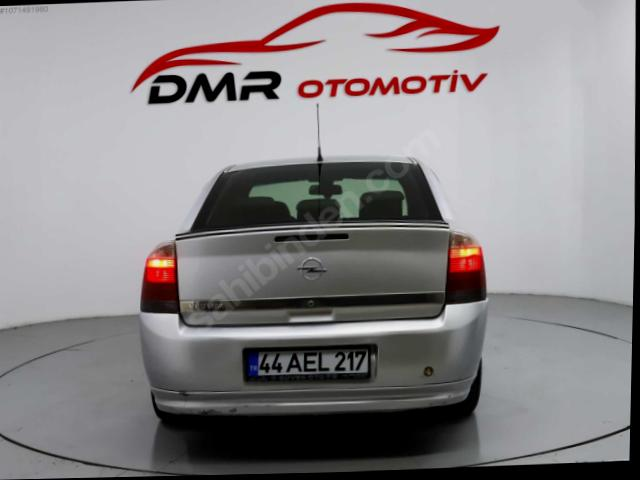plaka: (244, 347, 372, 381)
